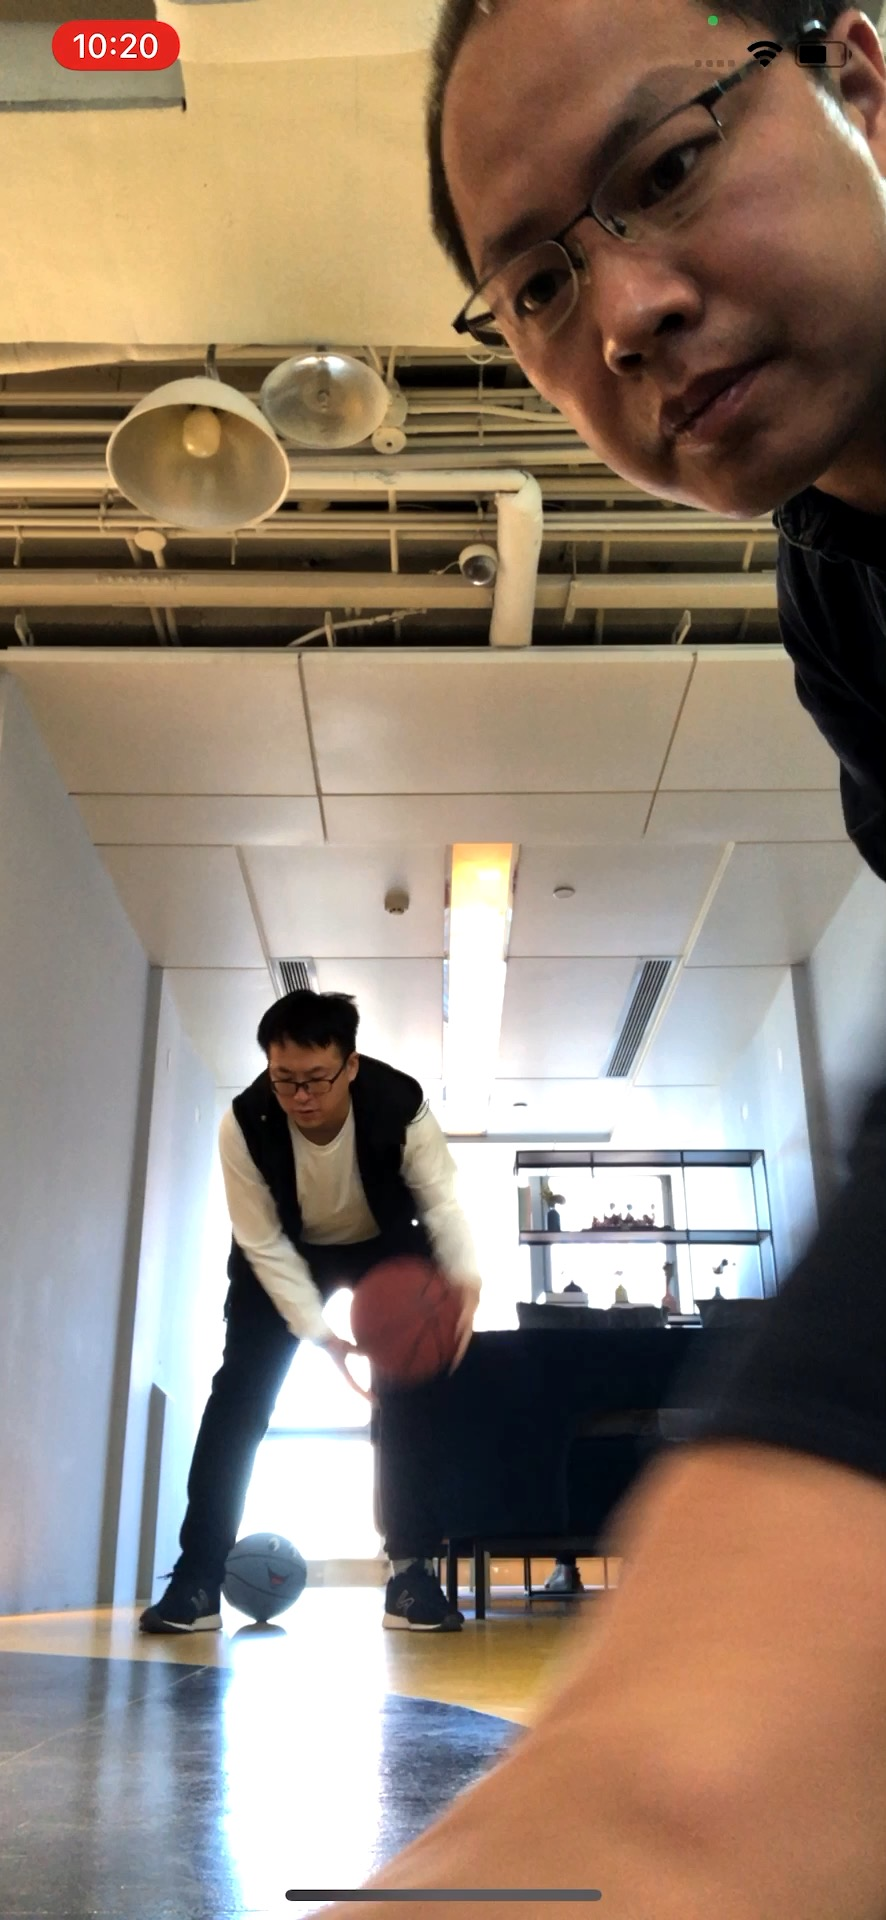ball: (351, 1259, 456, 1378), (225, 1531, 312, 1621)
